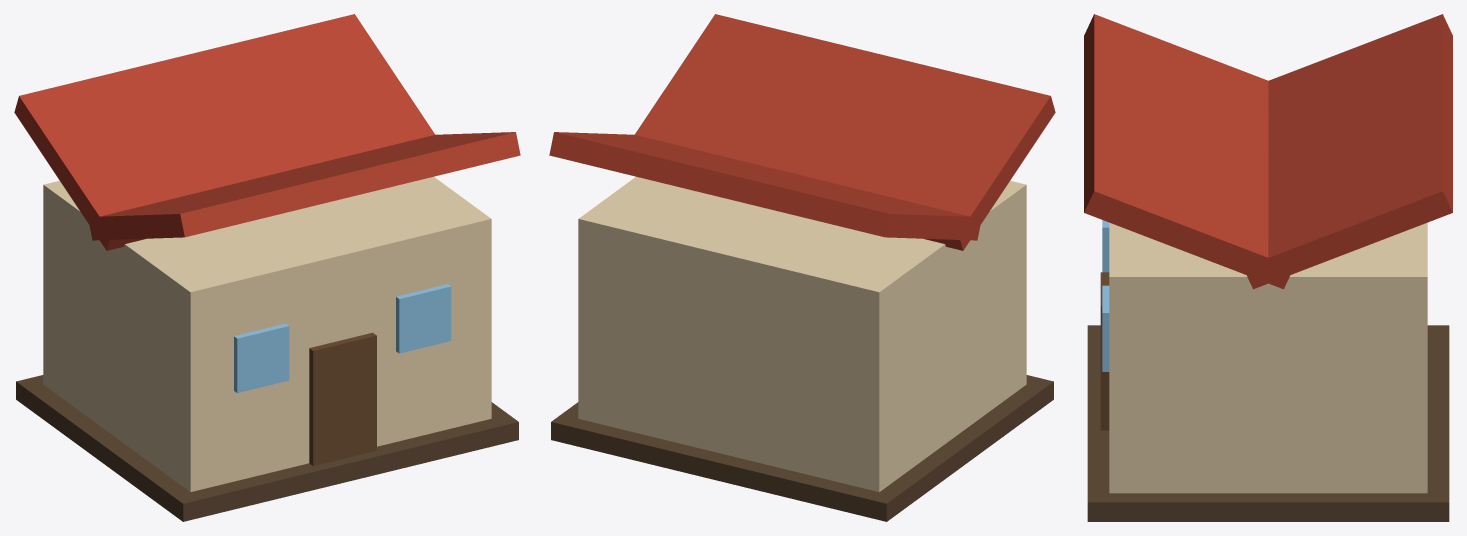
The model's file is house_red.glb.
3 views of the same model, side by side, from view 1: azimuth 30°, elevation 25°; view 2: azimuth 150°, elevation 25°; view 3: azimuth 270°, elevation 25° (orthographic). The views are drawn at different scales.
Visible parts, largest first — view 1: house_red; view 2: house_red; view 3: house_red.
Boxes of the visible parts, x1=… form: house_red: x1=14, y1=14, x2=520, y2=521; house_red: x1=549, y1=14, x2=1055, y2=521; house_red: x1=1084, y1=14, x2=1452, y2=521.
Bounding box in the file's own units: 2.9 × 2.52 × 2.55.
